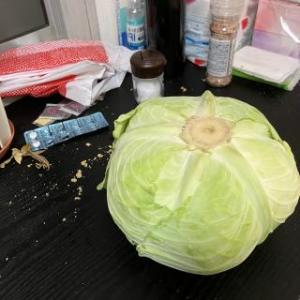cabbage: (96, 90, 300, 278)
